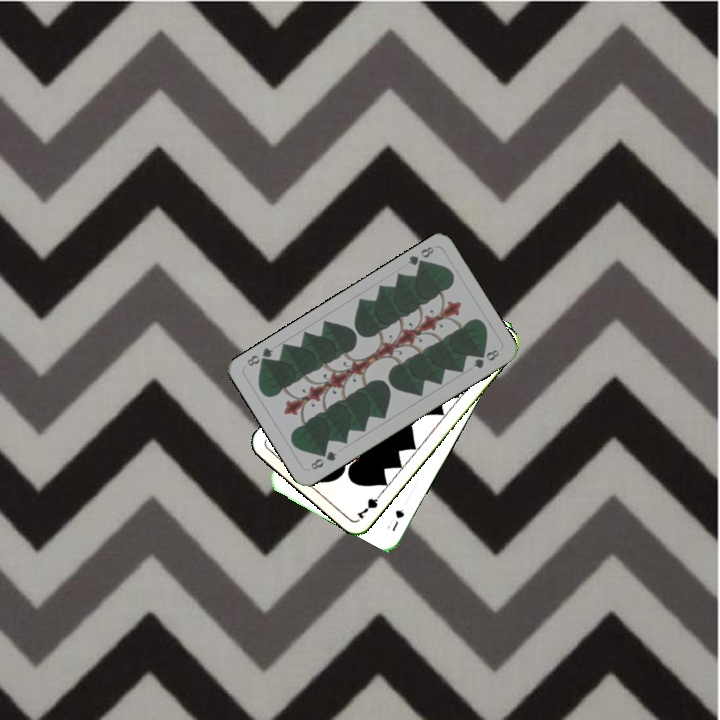G7: (352, 487, 385, 522)
G8: (403, 242, 436, 271), (307, 447, 340, 472)
GU: (383, 505, 407, 534)
